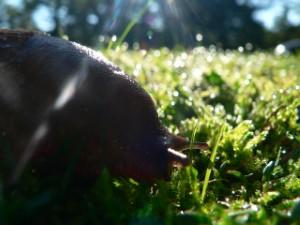slug: (29, 10, 267, 184)
